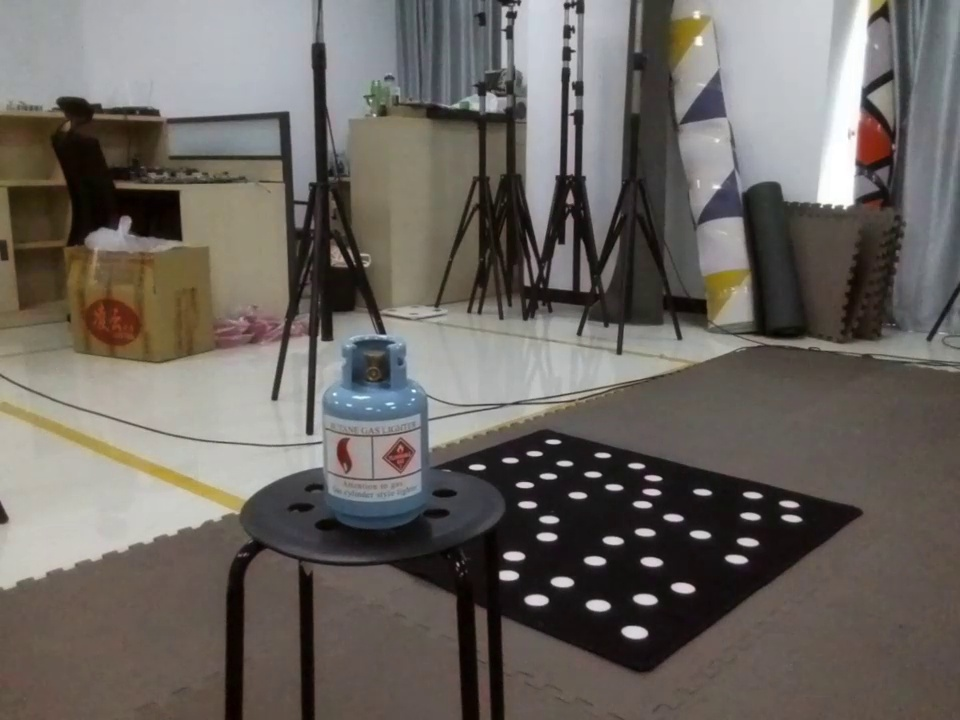gas tank: (302, 325, 464, 544)
